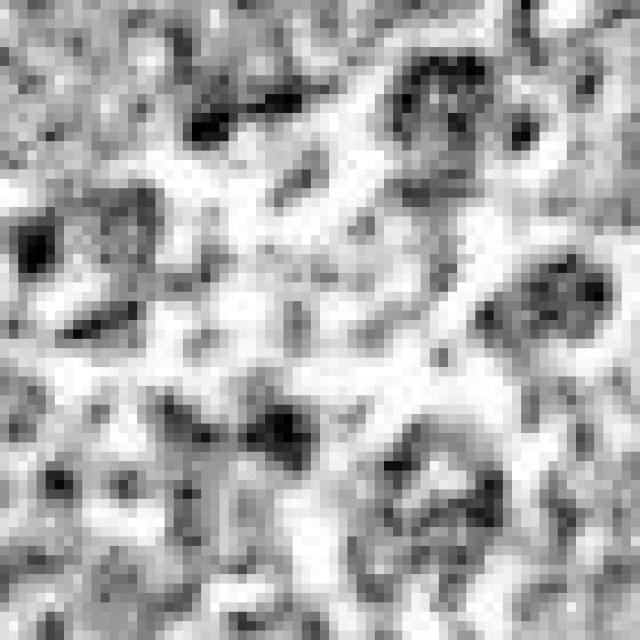inner: (176, 144, 469, 371)
lobe: (337, 412, 511, 625), (153, 384, 326, 571), (1, 185, 173, 354), (150, 11, 337, 157), (379, 48, 506, 216), (468, 245, 621, 364)
outer: (0, 0, 640, 636)
